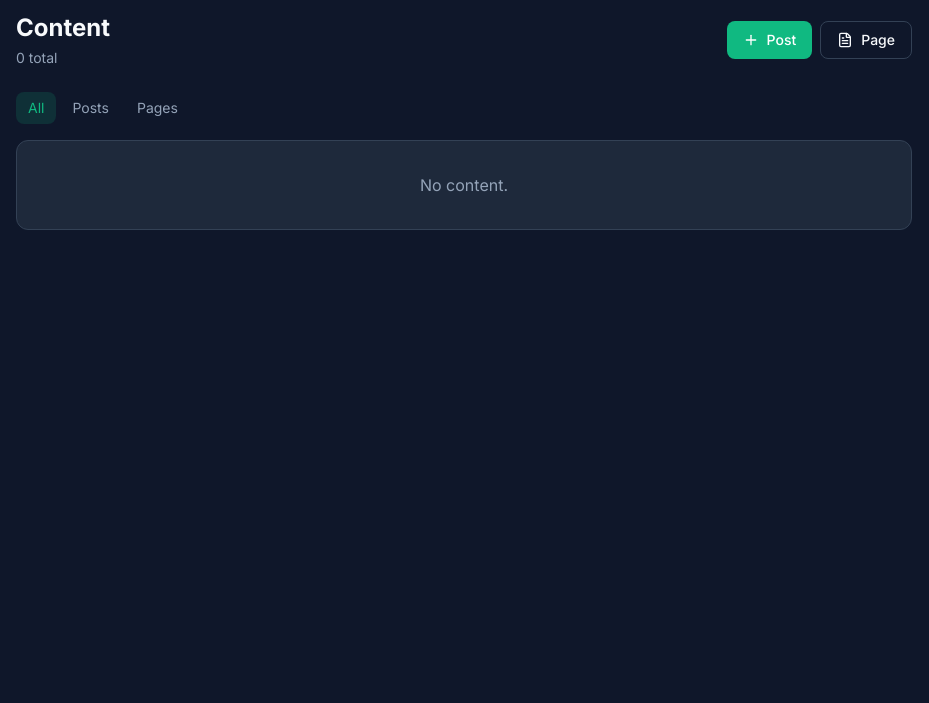
Test: Content settings page › create content › closes create form when Cancel is clicked
Expected: the heading "Content" is shown, [16,12,110,44]
Click the button "Post": [769, 40] box [727,21,812,59]
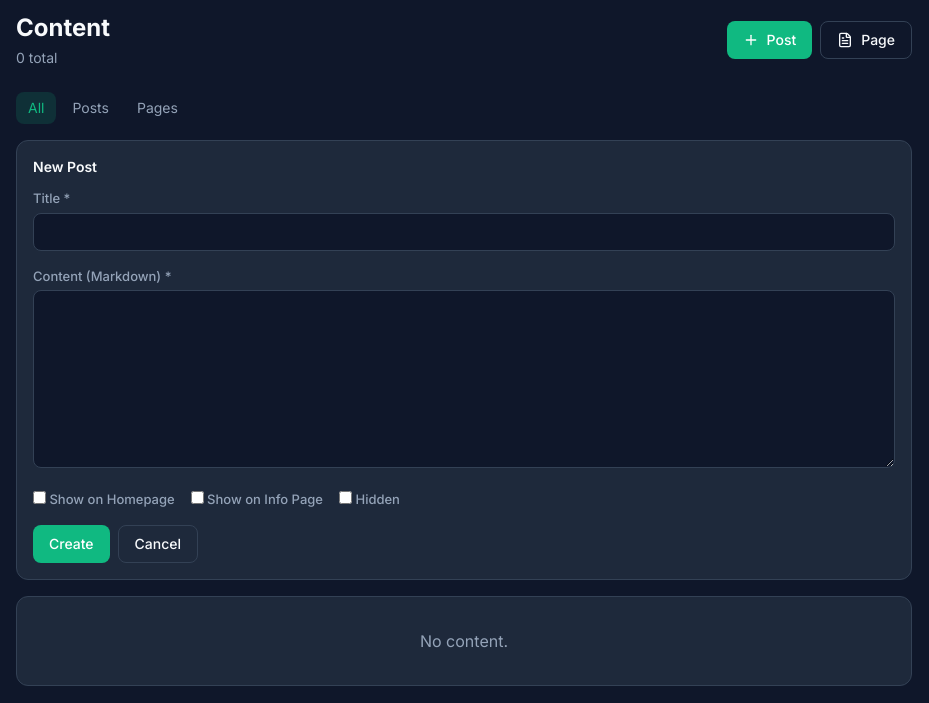
Expected: the heading "New Post" is shown, [33,158,97,175]
Click the button "Cancel": [158, 544] box [118,525,198,563]
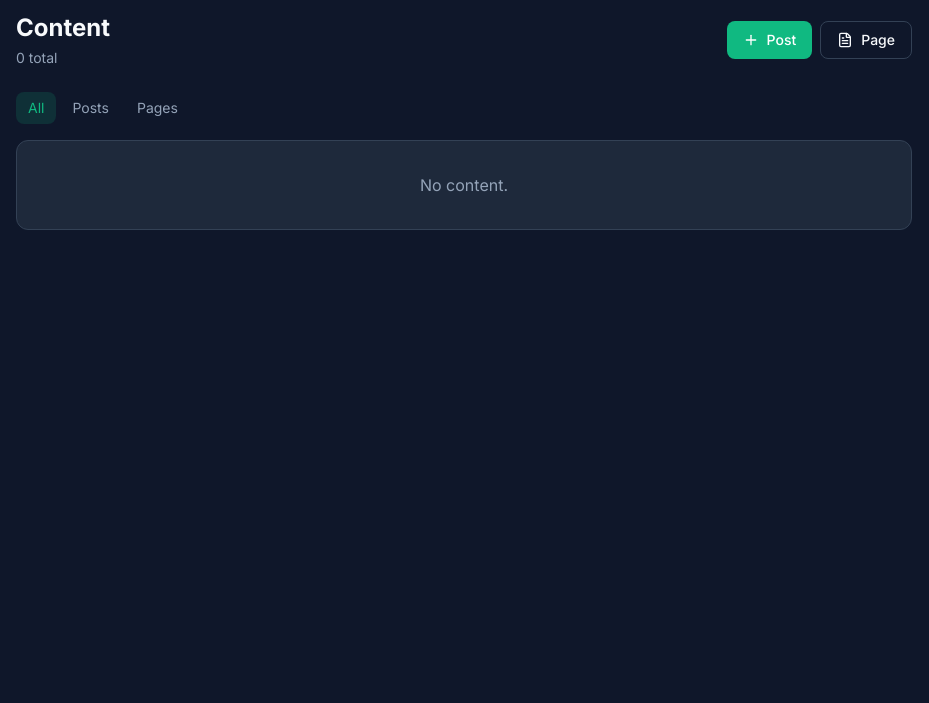
Expected: the heading "New Post" is gone
